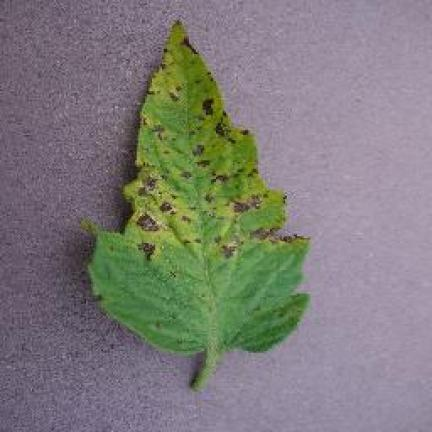disease: (88, 22, 307, 388)
leaf: (154, 322, 160, 327)
